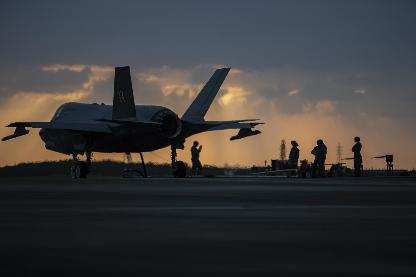F22: (1, 66, 265, 177)
